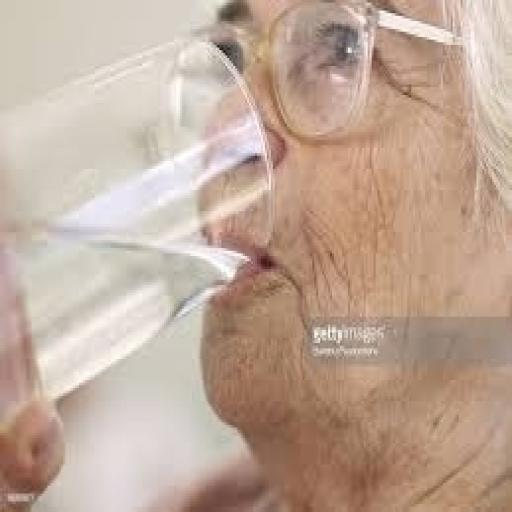drinking: (41, 31, 512, 512)
